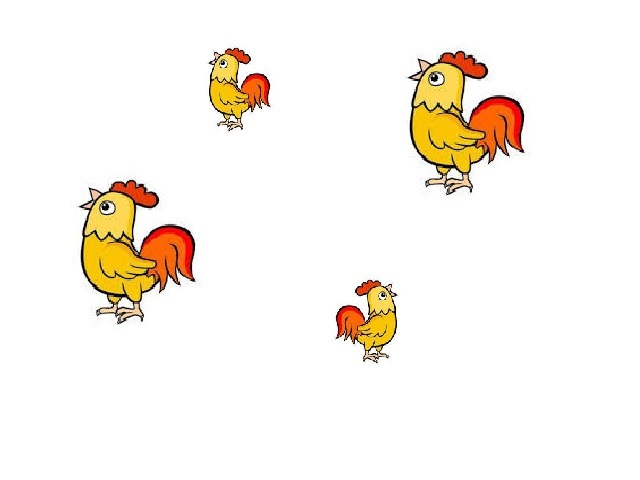crown: (436, 48, 489, 79), (112, 180, 164, 209), (227, 46, 253, 64), (354, 280, 380, 291)
eyes: (428, 67, 445, 88), (97, 201, 116, 215), (375, 291, 391, 303), (220, 57, 229, 74)
feet: (96, 303, 153, 326), (426, 173, 471, 197), (216, 116, 246, 133), (361, 347, 392, 363)
tail: (137, 224, 203, 290), (470, 94, 526, 162), (242, 73, 270, 110), (337, 304, 363, 342)
